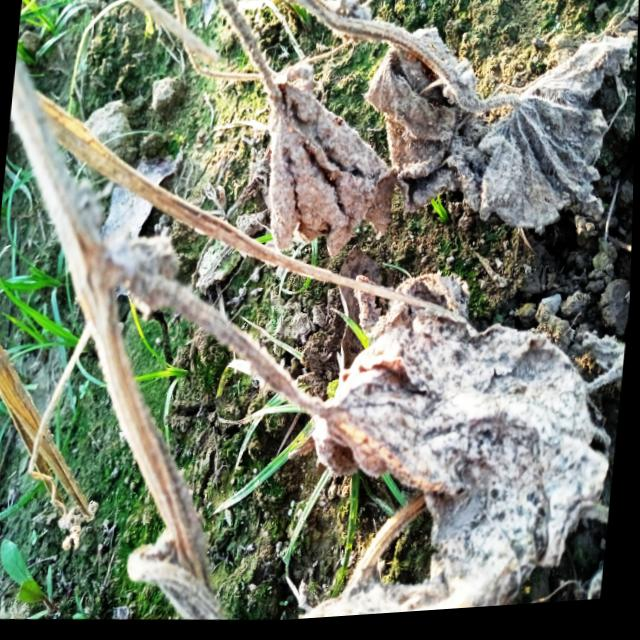Bacterial-Wilt: (295, 317, 612, 622), (361, 33, 638, 242), (269, 68, 398, 261)
